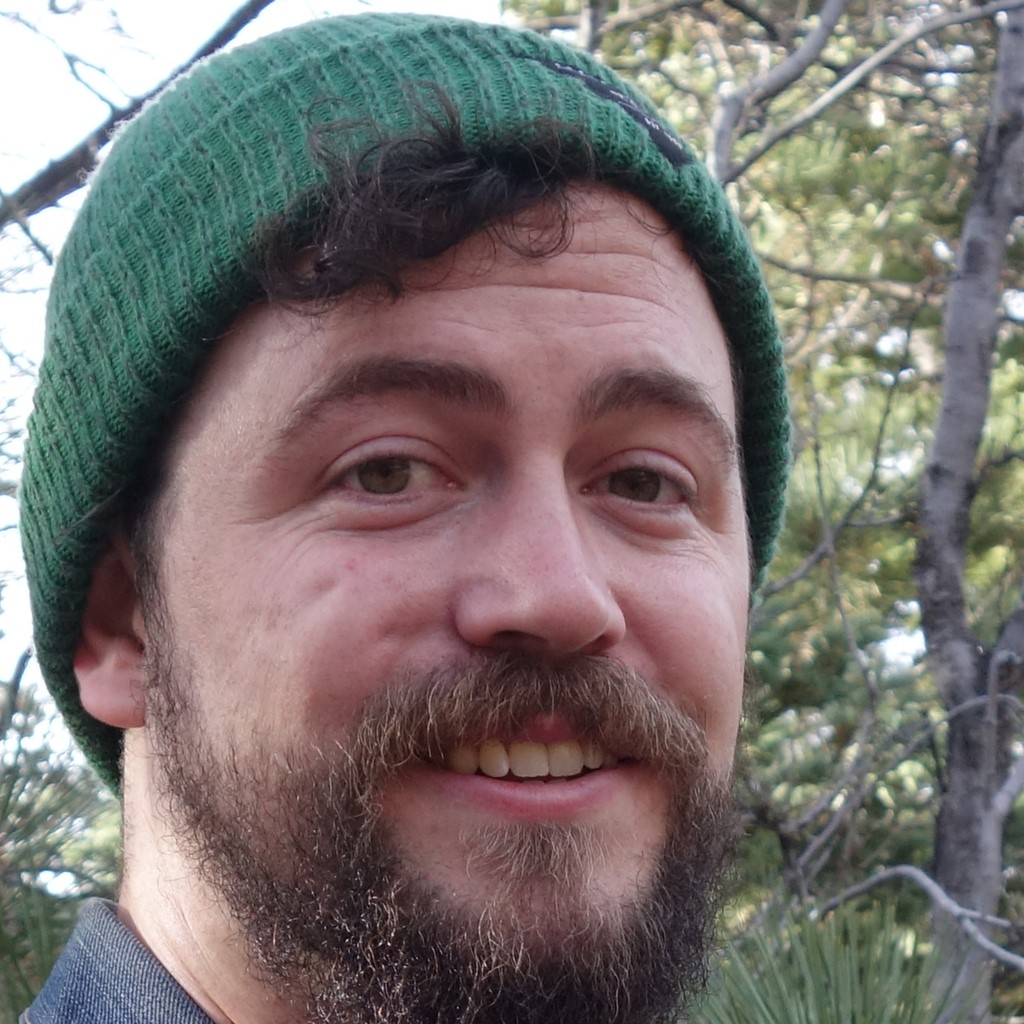sin_mascara: (90, 63, 747, 1000)
